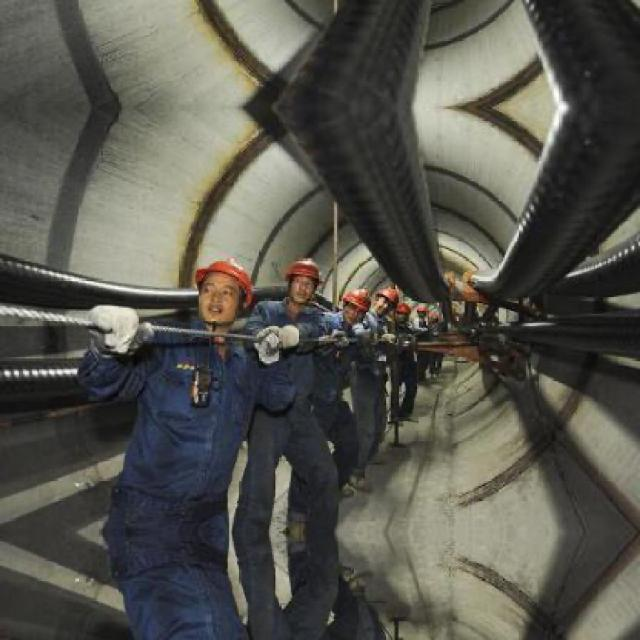2: (88, 260, 264, 529), (237, 257, 334, 528), (88, 532, 266, 638), (314, 280, 372, 517), (237, 534, 335, 638), (360, 286, 400, 483), (312, 544, 372, 638), (392, 300, 418, 420), (358, 578, 400, 638), (412, 302, 434, 389)
helmet: (188, 249, 262, 325), (283, 255, 325, 303), (342, 285, 372, 323), (375, 283, 400, 314), (392, 301, 412, 317), (416, 302, 430, 316)
